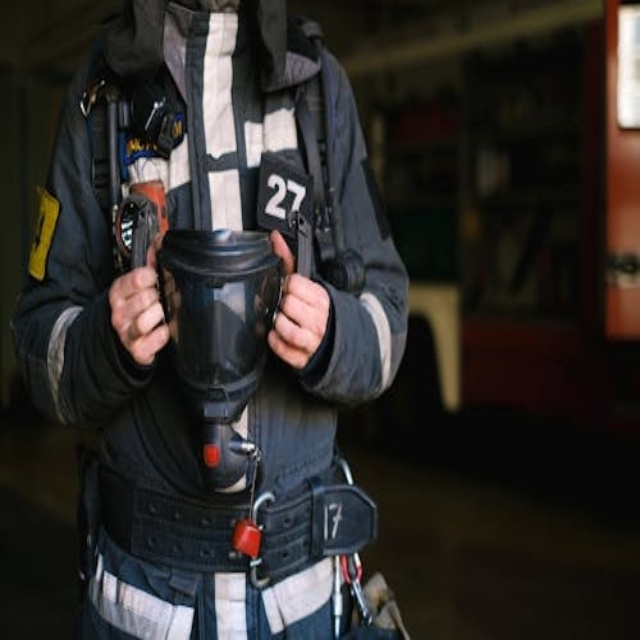Sin_guantes: (265, 236, 333, 374), (107, 239, 173, 370)
